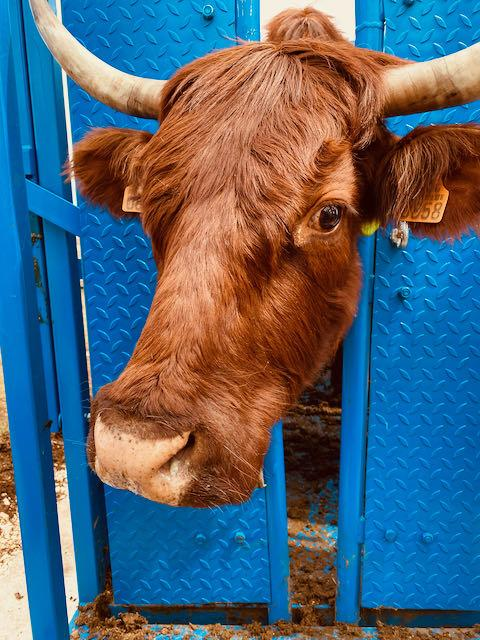muzzles: (70, 393, 248, 508)
